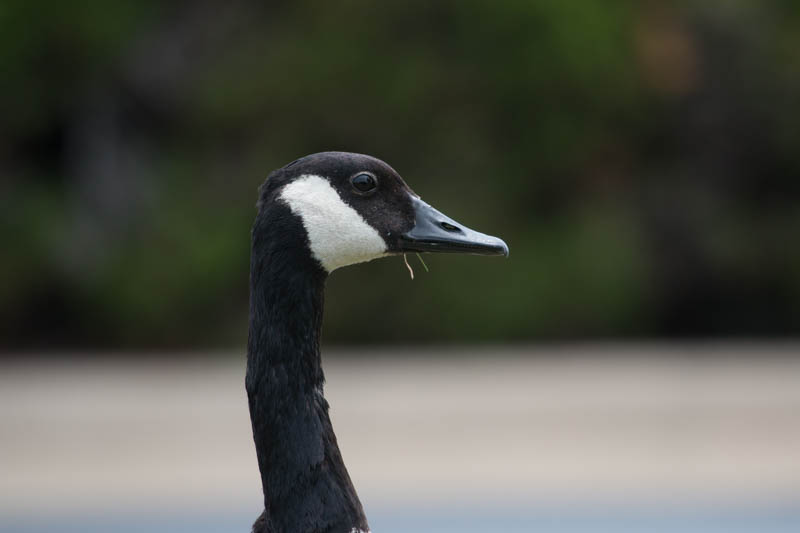goose-head: (249, 152, 510, 275)
